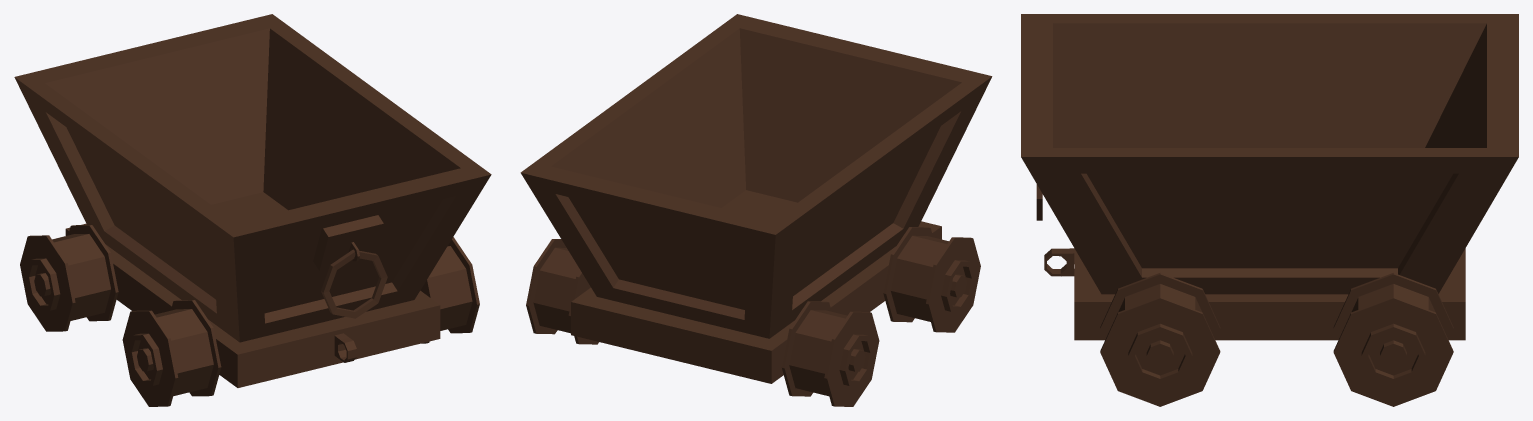
File: Mina_Vagao.fbx
3 renders of one model, left to right at view 1: azimuth 30°, elevation 25°; view 2: azimuth 150°, elevation 25°; view 3: azimuth 270°, elevation 25°, orthographic. The views are drawn at different scales.
Visible parts, largest first — view 1: Carrinho; view 2: Carrinho; view 3: Carrinho.
Part boxes in pixels (bbox=[...]): Carrinho: bbox=[14, 14, 491, 406]; Carrinho: bbox=[520, 14, 992, 406]; Carrinho: bbox=[1021, 14, 1518, 406].
Bounding box in the file's own units: 809 × 509 × 969.
